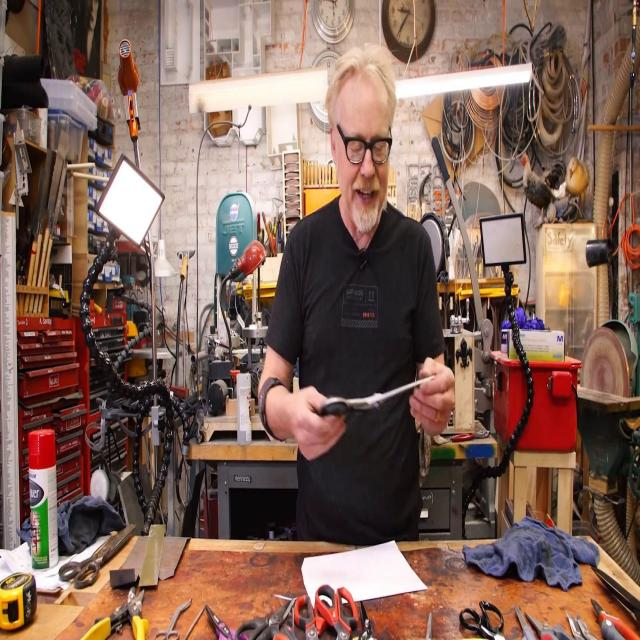scissor: (321, 374, 436, 424), (58, 523, 137, 589), (592, 566, 640, 624), (235, 599, 294, 640), (316, 585, 358, 640), (590, 598, 640, 640), (460, 601, 504, 640), (294, 595, 330, 640), (205, 604, 245, 640), (525, 612, 570, 640), (273, 607, 297, 640), (515, 604, 535, 640), (359, 600, 376, 640)
